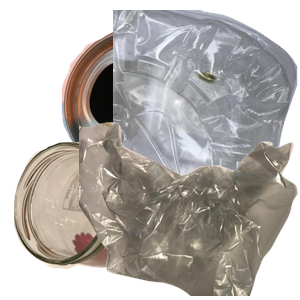glass: (11, 139, 179, 300)
metal: (59, 10, 273, 189)
plastic: (113, 10, 300, 190)
trash: (79, 120, 300, 300)
